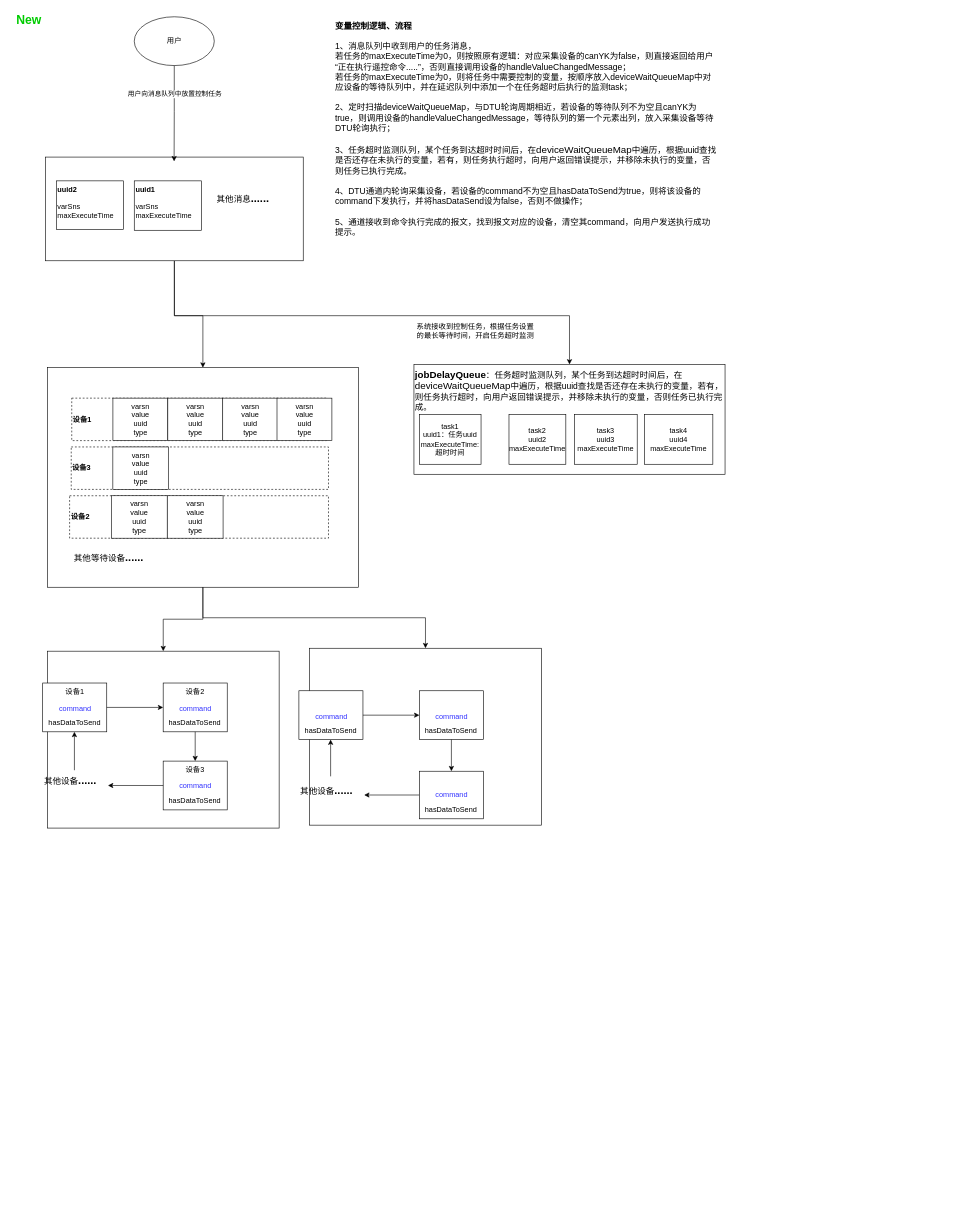
Image size: 967x1222. Some labels were removed from this diagram. Here are the shapes that lost their labels. From the top down, the box of each, then its label:
(45, 156, 303, 261): varChangeMessages
(47, 367, 358, 587): deviceWaitControlQueueMap
(298, 690, 363, 740): 设备4
(419, 690, 483, 740): 设备5
(47, 651, 279, 828): 通道一
(309, 648, 541, 825): 通道二
(419, 771, 483, 819): 设备6
